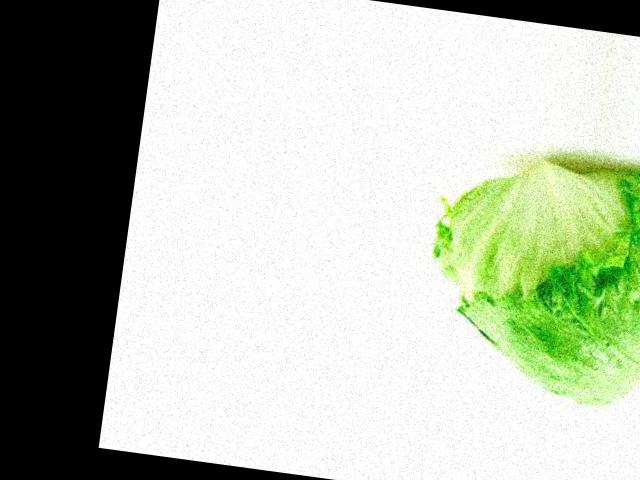lettuce: (307, 198, 444, 431)
